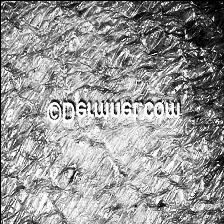Non-Cancerous Skin Condition: (17, 132, 96, 224)
